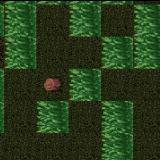Obstacle: (36, 68, 68, 100)
Slow: (4, 0, 36, 67), (101, 100, 133, 160), (134, 4, 160, 68), (70, 0, 102, 36), (36, 100, 68, 133), (69, 68, 101, 100), (102, 36, 134, 68)
